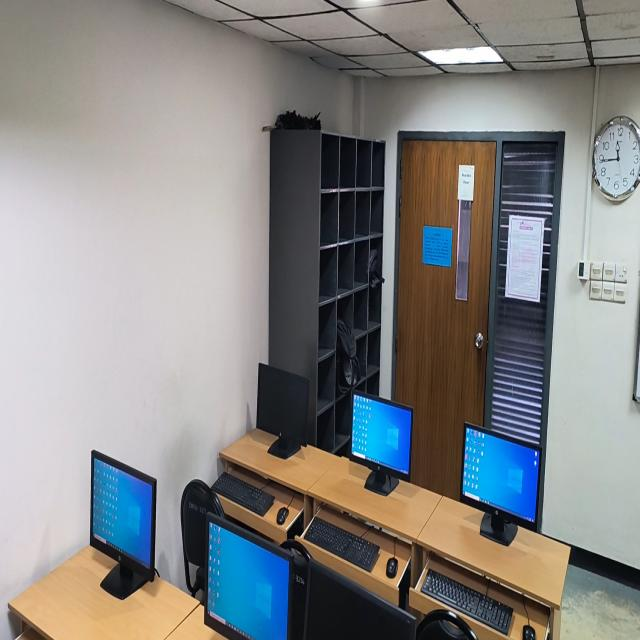Chair: (181, 480, 225, 600), (280, 539, 312, 639), (416, 610, 477, 639)
Keyboard: (420, 569, 513, 635), (305, 517, 380, 572), (211, 472, 274, 516)
Light: (418, 46, 503, 65)
Monitor: (204, 512, 296, 639), (90, 450, 156, 599), (462, 423, 541, 545), (304, 560, 416, 639), (351, 392, 412, 495), (256, 363, 310, 459)
Mouse: (386, 557, 398, 578), (276, 507, 289, 525), (523, 625, 536, 639)
